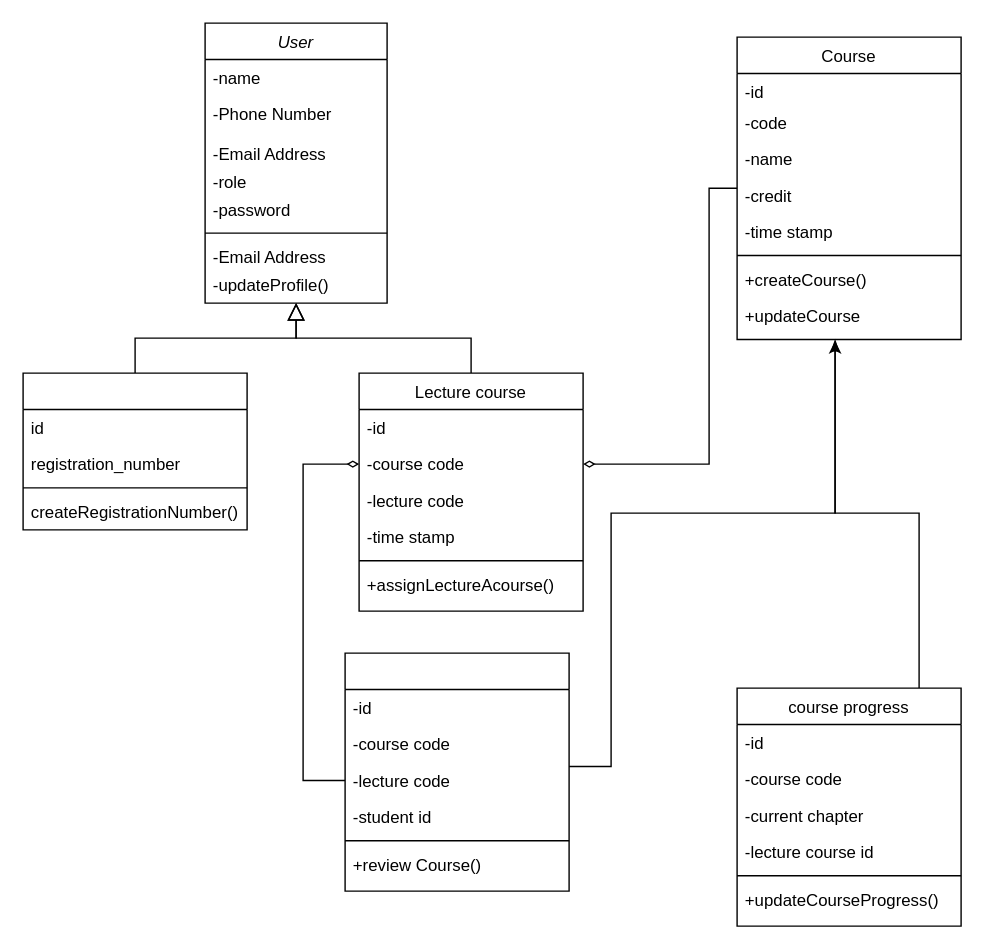
Some shapes in this 984 by 949 pixel diagram are drawn without their labels. Each missing label, with the box of its shape:
course review: (344, 652, 569, 891)
Student: (22, 372, 247, 530)
